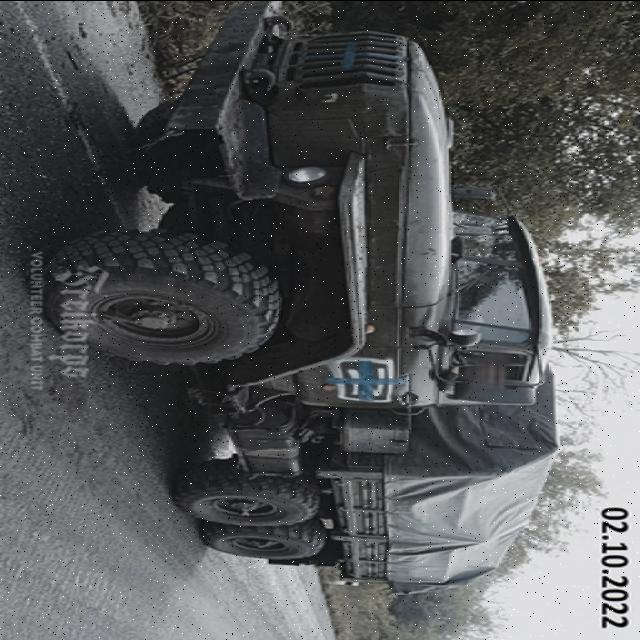TRUCK: (33, 0, 567, 594)
